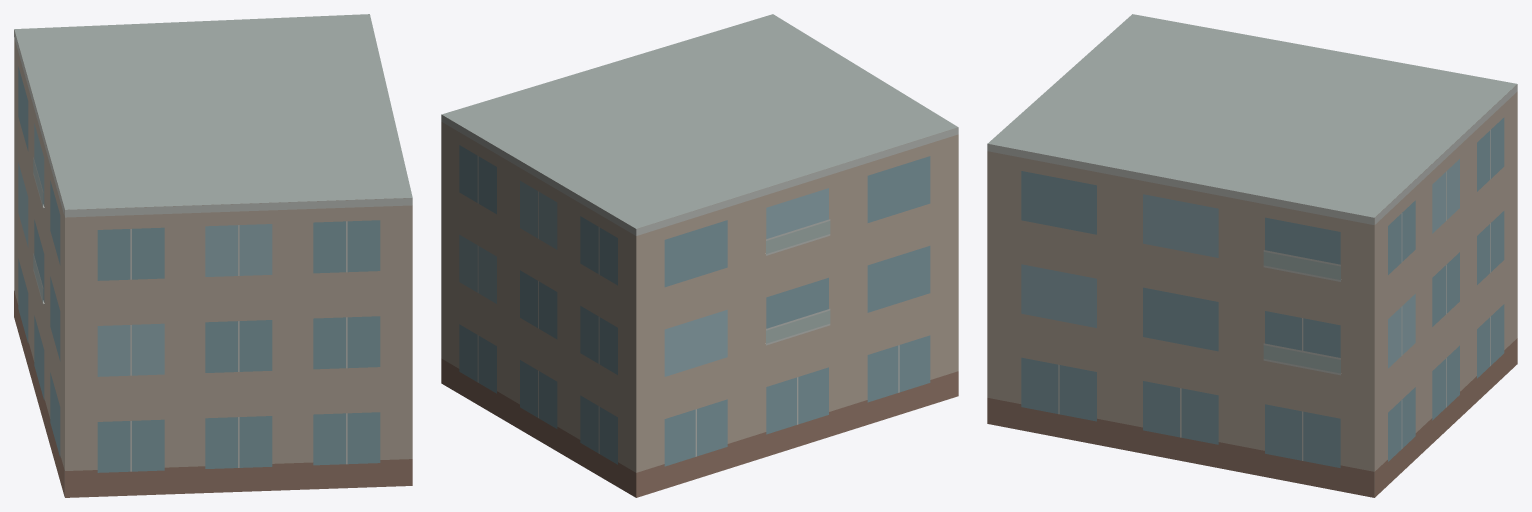
File: survey-upis-32929041.glb
3 views of the same model, side by side, from view 1: azimuth 30°, elevation 25°; view 2: azimuth 150°, elevation 25°; view 3: azimuth 270°, elevation 25° (orthographic). The views are drawn at different scales.
Parts seen in each view (by area): view 1: survey-upis-32929041.tmp; view 2: survey-upis-32929041.tmp; view 3: survey-upis-32929041.tmp.
Part boxes in pixels (x1,y1,x2,y2): survey-upis-32929041.tmp: (14,14,412,497); survey-upis-32929041.tmp: (441,14,958,497); survey-upis-32929041.tmp: (987,14,1517,497).
Size of the model in its own units: 14.29 by 9.15 by 15.7.
